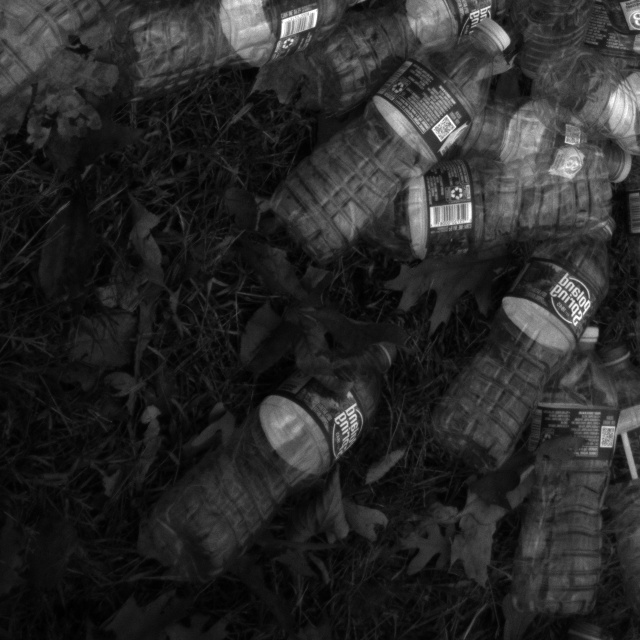bottle: (128, 343, 395, 584), (254, 23, 513, 265), (427, 217, 616, 470), (506, 346, 616, 619), (104, 0, 378, 93), (0, 0, 154, 132), (578, 341, 640, 620), (528, 45, 640, 171), (555, 0, 639, 73)
